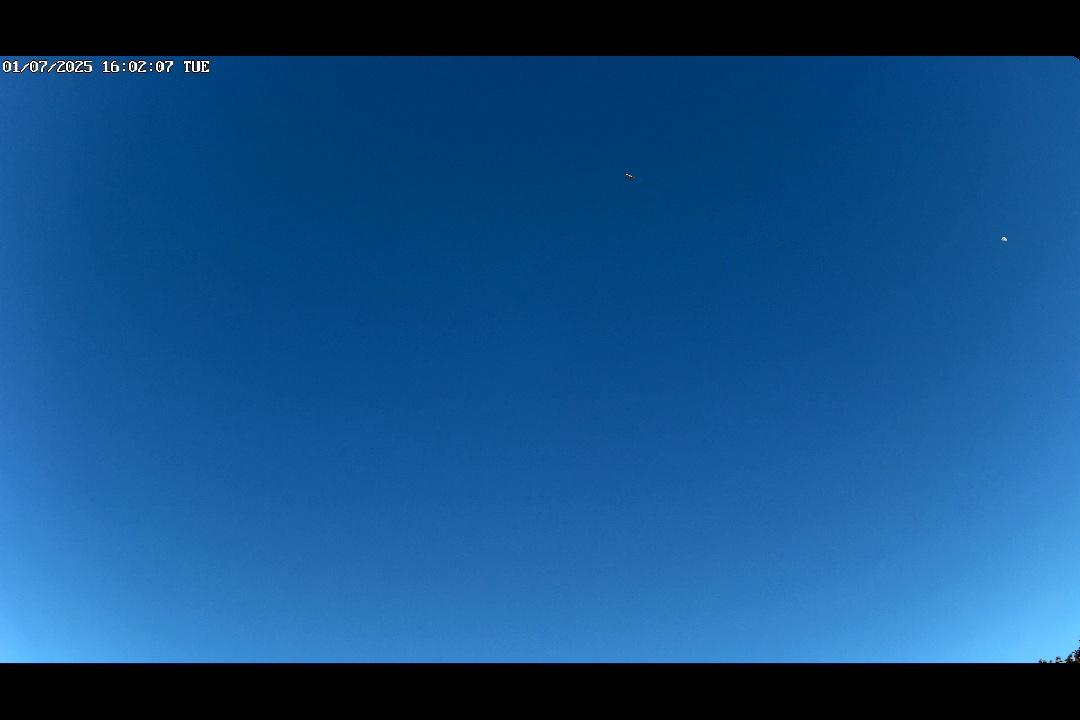WildLife: (620, 169, 640, 187)
